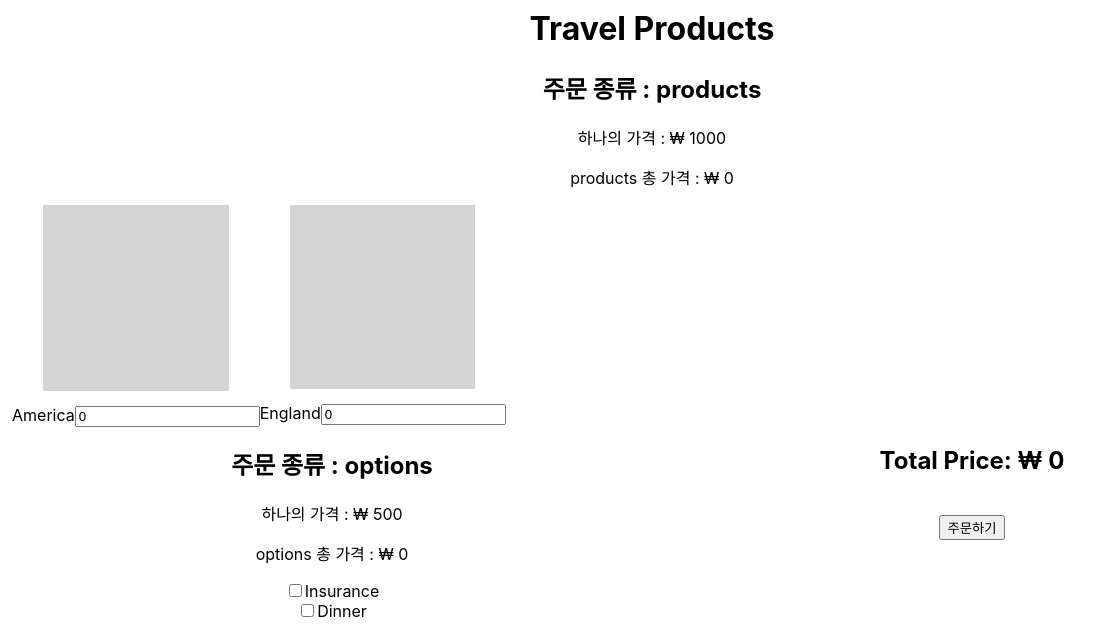
it: total price of products and options › update total price when adding a option
Click the checkbox labelled "Insurance" at (295, 591), box [289, 584, 302, 597]
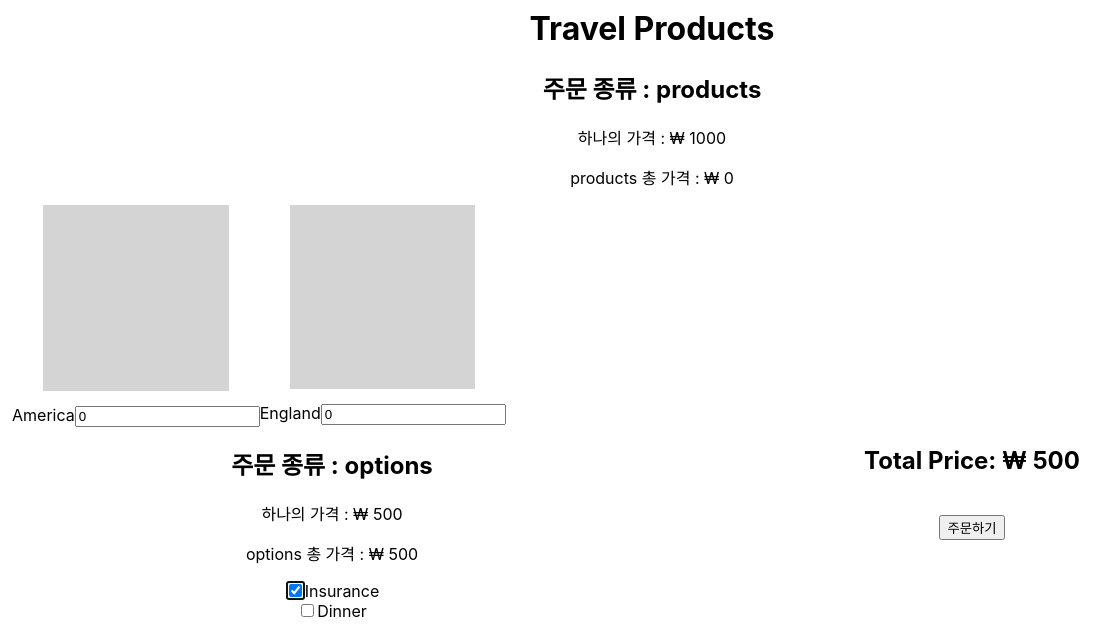
Now the heading "Total Price: ₩ 500" is shown, box [864, 446, 1080, 476]
